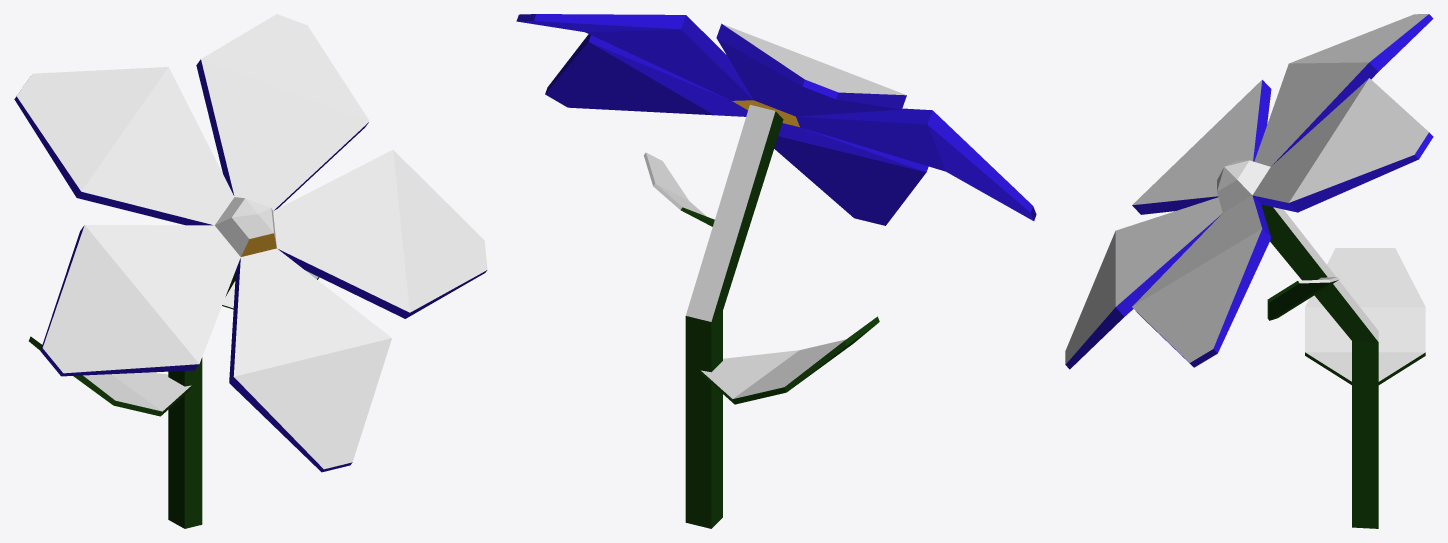
The model's file is Flower_2_Snow.fbx.
The picture shows the model from 3 angles, left to right: view 1: azimuth 30°, elevation 25°; view 2: azimuth 150°, elevation 25°; view 3: azimuth 270°, elevation 25°; orthographic projection. The views are drawn at different scales.
Visible parts, largest first — view 1: Flower_2_Snow; view 2: Flower_2_Snow; view 3: Flower_2_Snow.
Part boxes in pixels (box(x1,y1,x2,y2)): Flower_2_Snow: box(14, 14, 487, 528); Flower_2_Snow: box(516, 14, 1036, 528); Flower_2_Snow: box(1065, 14, 1433, 528).
Size of the model in its own units: 71.2 by 70.42 by 51.86.
